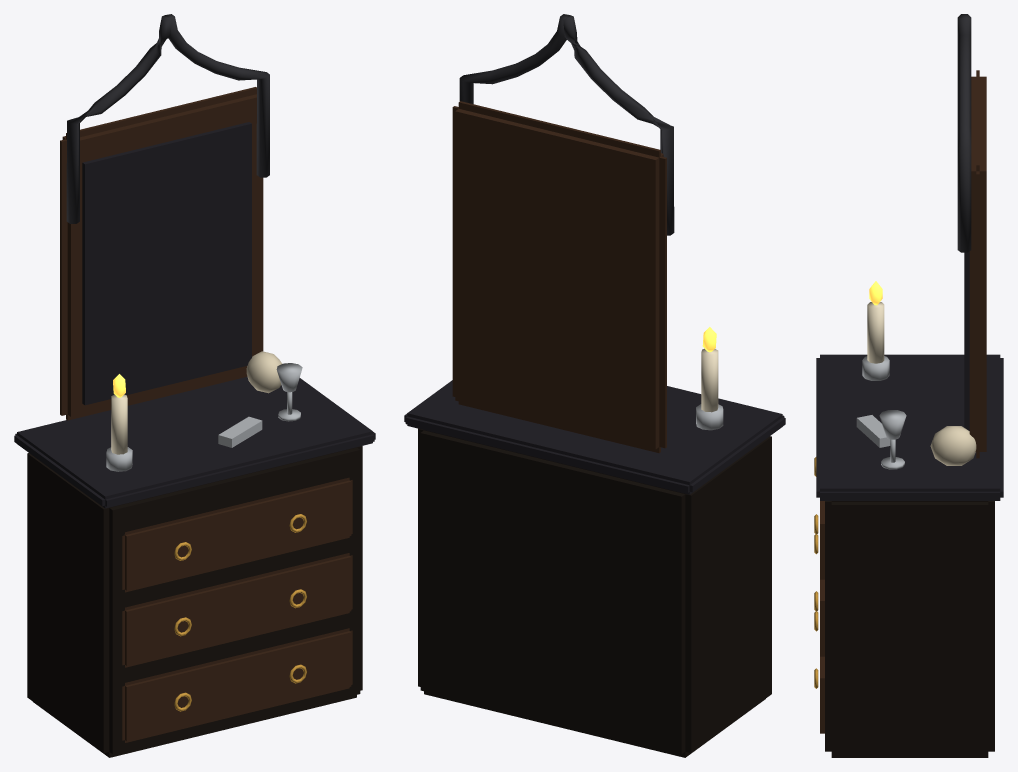
Rendered from gothic-dresser.glb.
3 renders of one model, left to right at view 1: azimuth 30°, elevation 25°; view 2: azimuth 150°, elevation 25°; view 3: azimuth 270°, elevation 25°, orthographic. The views are drawn at different scales.
Parts seen in each view (by area): view 1: Model Mesh; view 2: Model Mesh; view 3: Model Mesh.
Part boxes in pixels (x1,y1,x2,y2): Model Mesh: (14, 14, 375, 757); Model Mesh: (404, 14, 785, 757); Model Mesh: (814, 14, 1003, 757).
Bounding box in the file's own units: 0.95 × 2.2 × 0.556.
